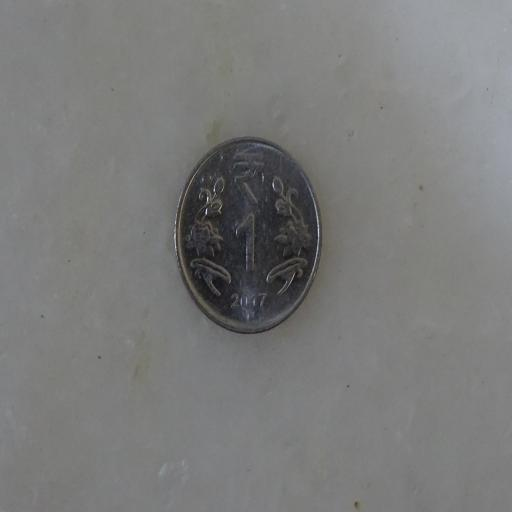rupee1: (170, 135, 324, 334)
